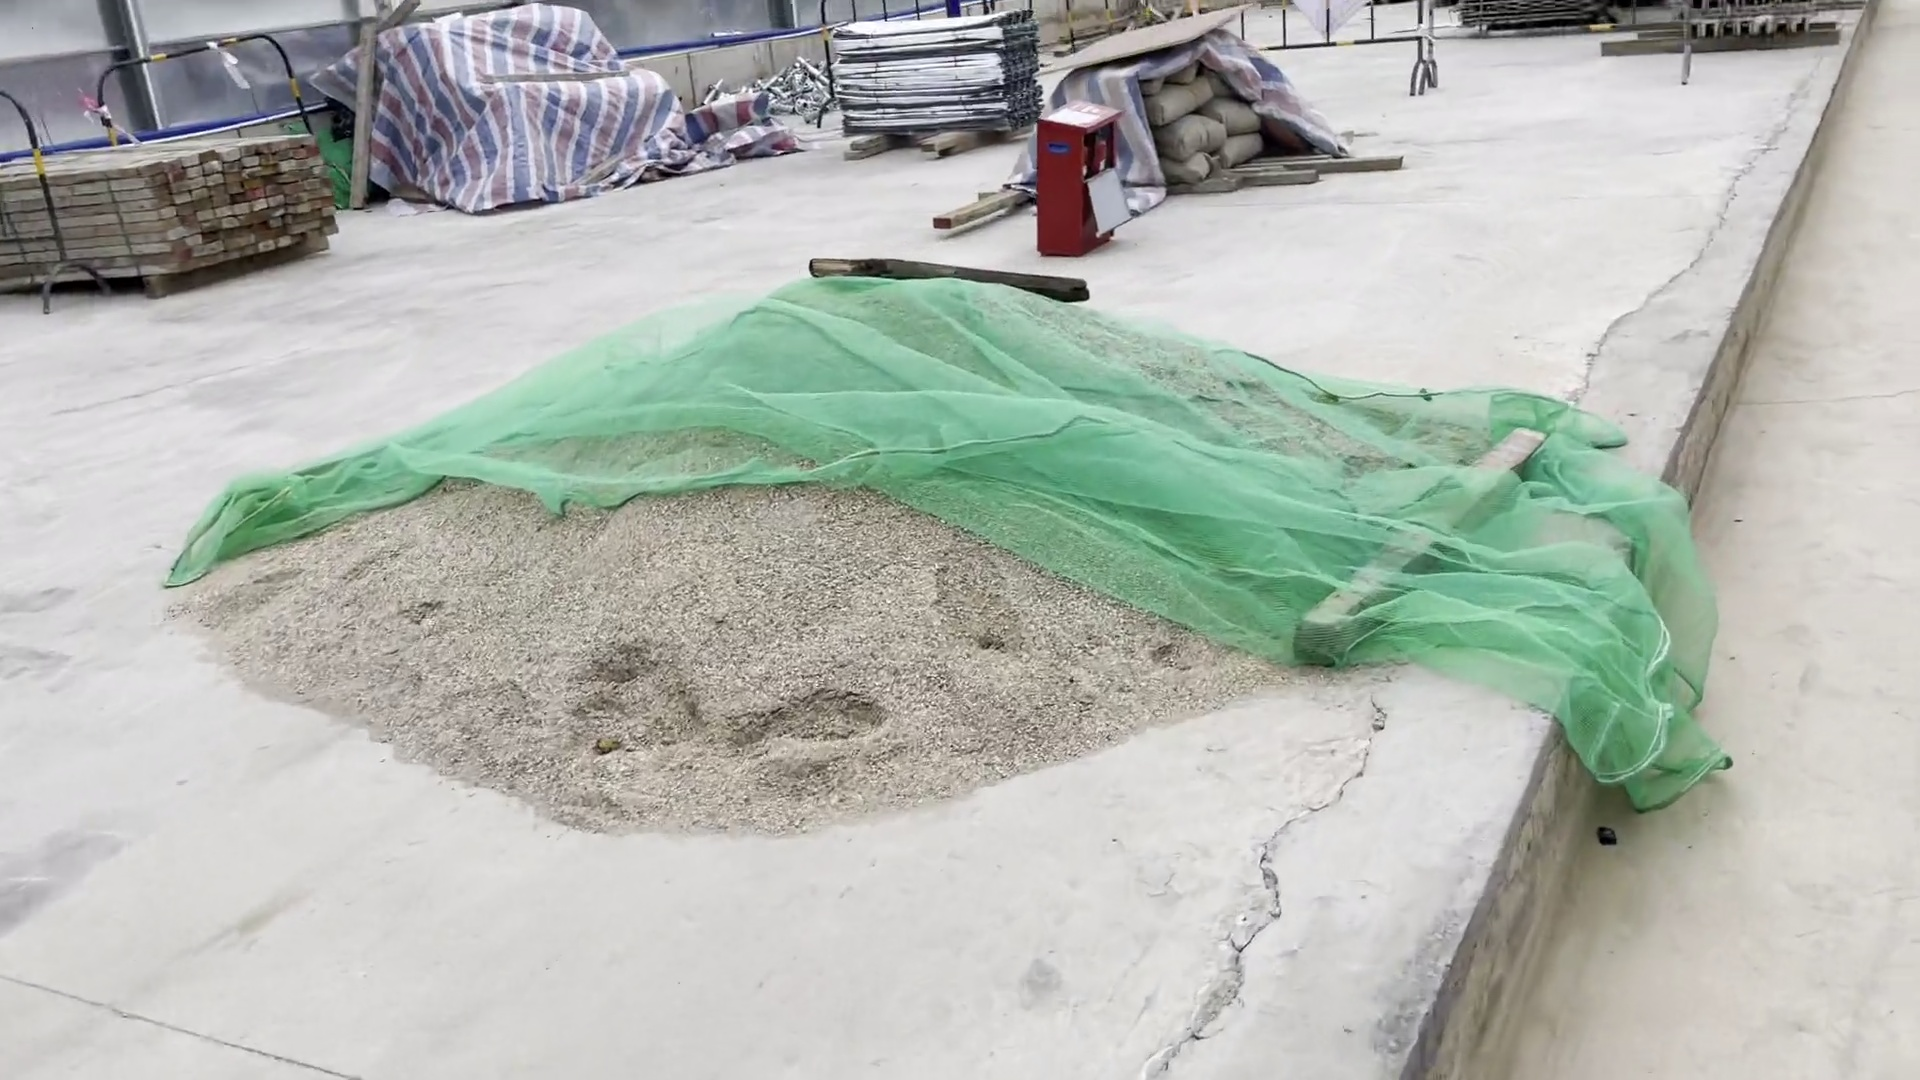board: (1027, 4, 1266, 80)
wood: (3, 131, 353, 305)
